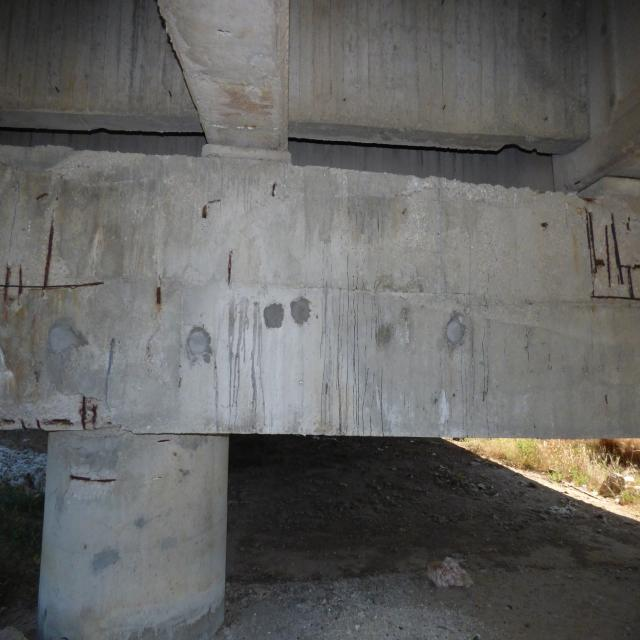corrosion: (0, 212, 109, 429), (570, 191, 640, 315), (218, 237, 240, 293), (142, 277, 170, 320), (266, 171, 282, 201), (199, 203, 212, 222)
